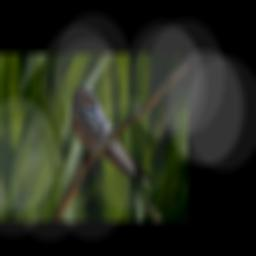Swallow: (70, 86, 156, 211)
